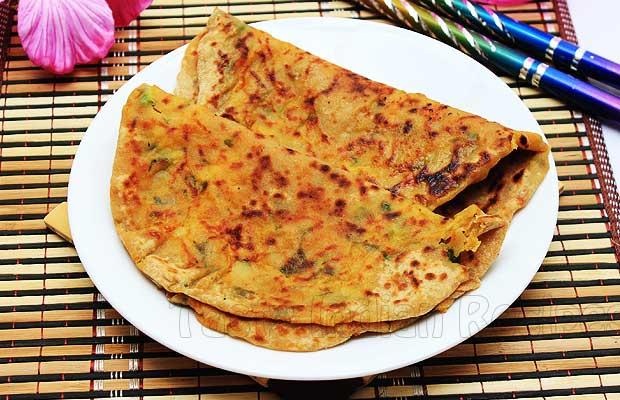aloo_paratha: (111, 10, 551, 352)
